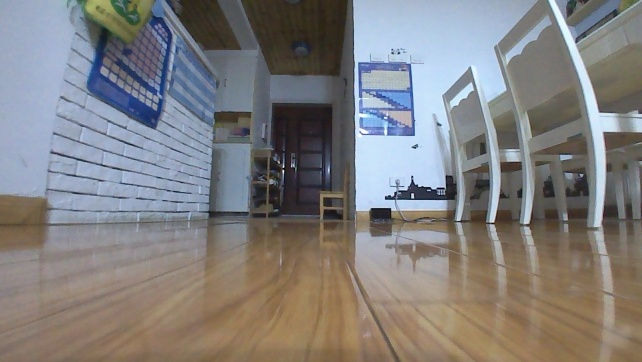dining_table: (440, 0, 641, 230)
door_anno: (266, 98, 336, 220)
wire: (391, 177, 447, 224)
